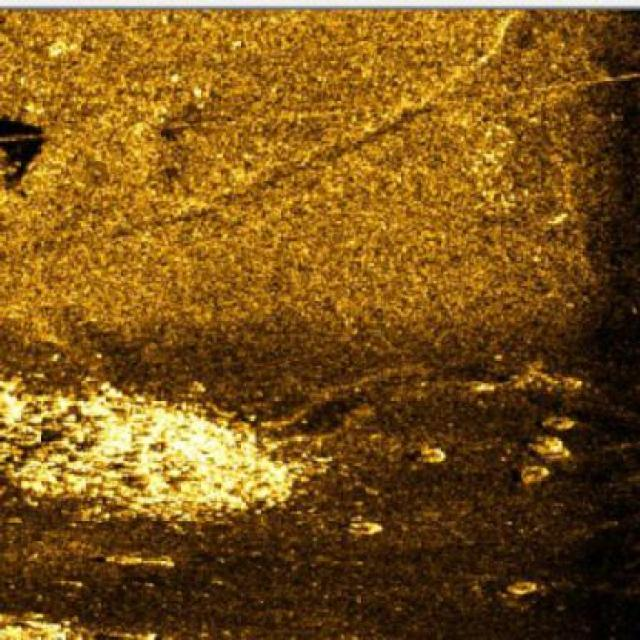bedrock group: (0, 374, 289, 524)
